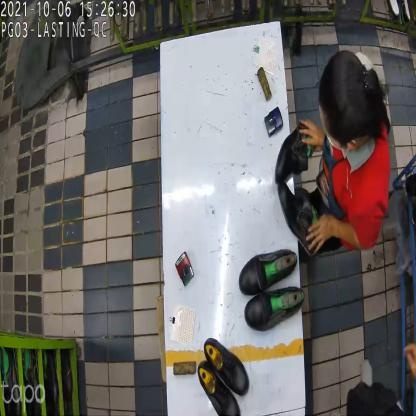shoes: (266, 124, 327, 252), (237, 249, 304, 332), (199, 332, 248, 416)
stamp: (266, 106, 286, 140), (176, 248, 192, 282)
